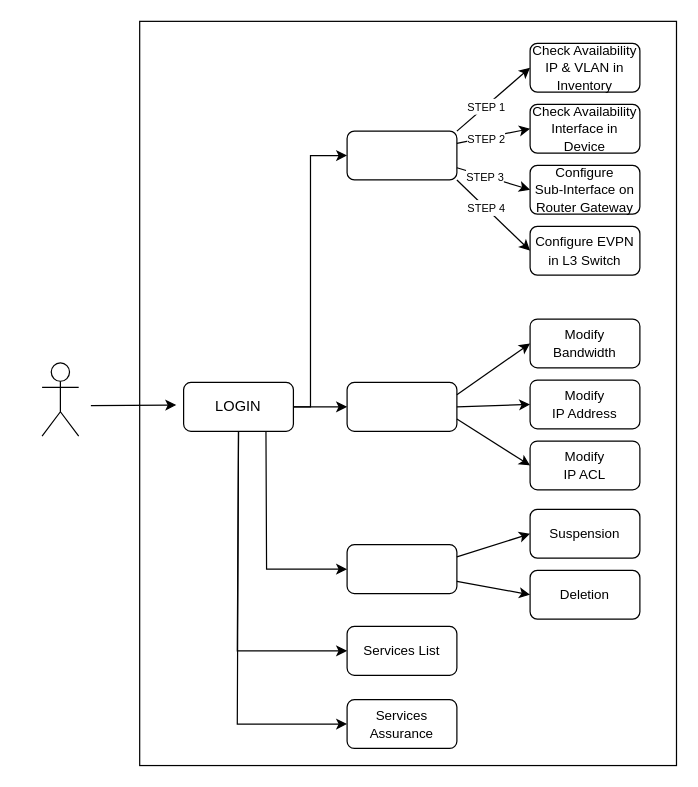
Some shapes in this 698 by 787 pixel diagram are drawn without their labels. Each missing label, with the centre of its shape:
Activate New Internet Service: the point at 401,155
Deactivate Internet Services: the point at 401,569
Modify Existing Internet Services: the point at 401,406
Provisioning Team: the point at 60,399
